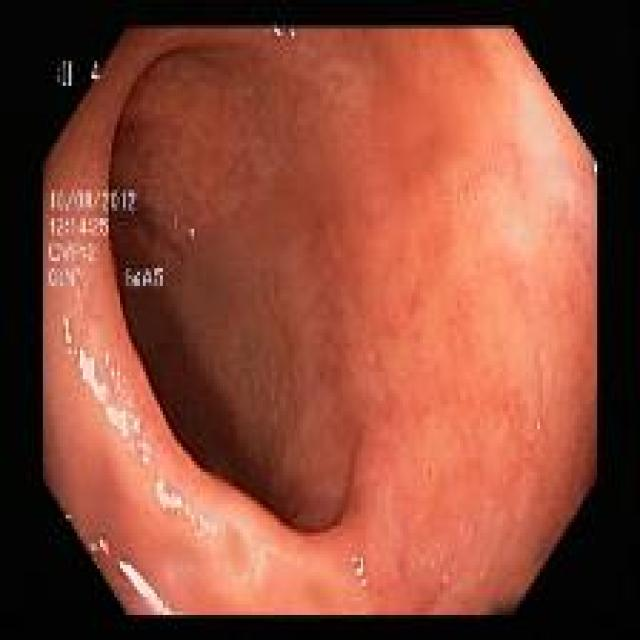ulcerative-colitis: (44, 28, 598, 616)
